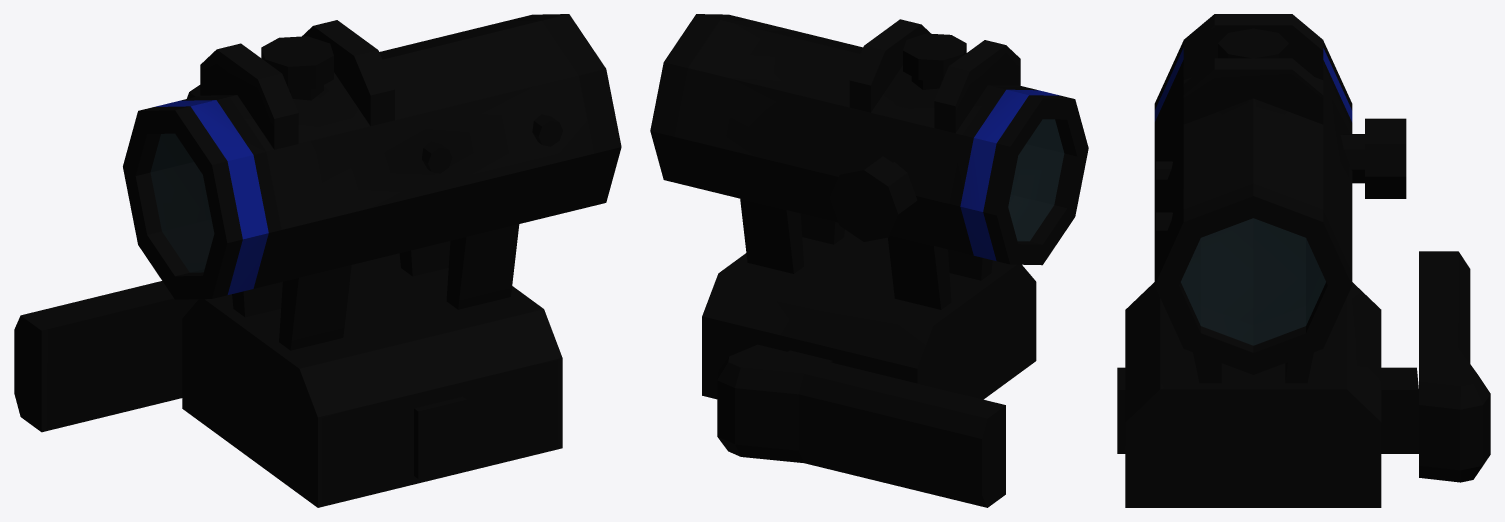
File: k-att-reddot-west.glb
3 renders of one model, left to right at view 1: azimuth 30°, elevation 25°; view 2: azimuth 150°, elevation 25°; view 3: azimuth 270°, elevation 25°, orthographic. The views are drawn at different scales.
Parts seen in each view (by area): view 1: kit (×3), lens; view 2: kit (×3), lens; view 3: kit (×3), lens.
Part boxes in pixels (box(x1,y1,x2,y2)): kit (×3): box(14, 14, 621, 507); lens: box(150, 133, 214, 272); kit (×3): box(650, 14, 1088, 507); lens: box(1008, 119, 1064, 241); kit (×3): box(1117, 14, 1490, 507); lens: box(1181, 218, 1325, 345).
Size of the model in its own units: 0.0557 by 0.0491 by 0.0434.
